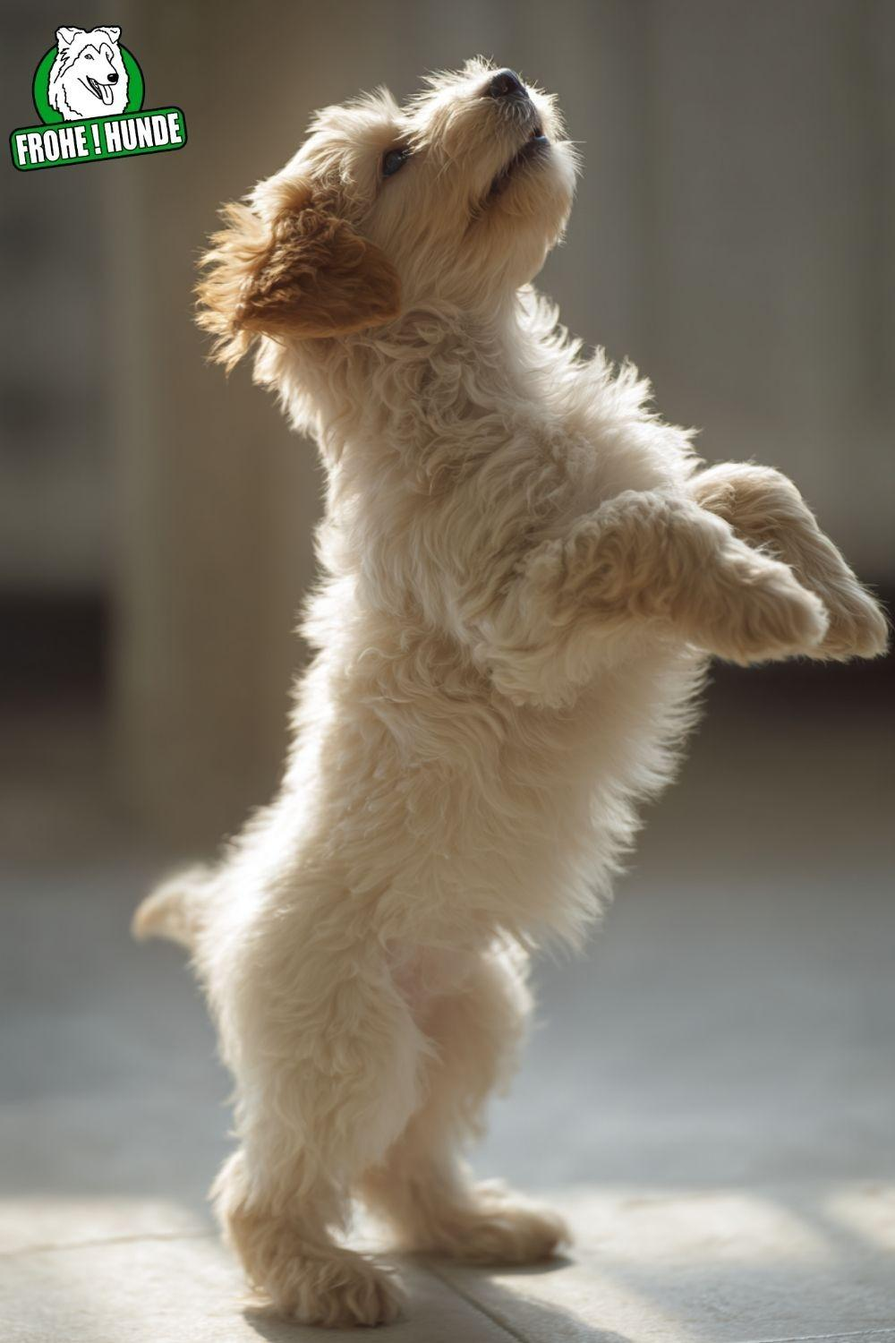puppy-dog: (136, 56, 889, 1332)
